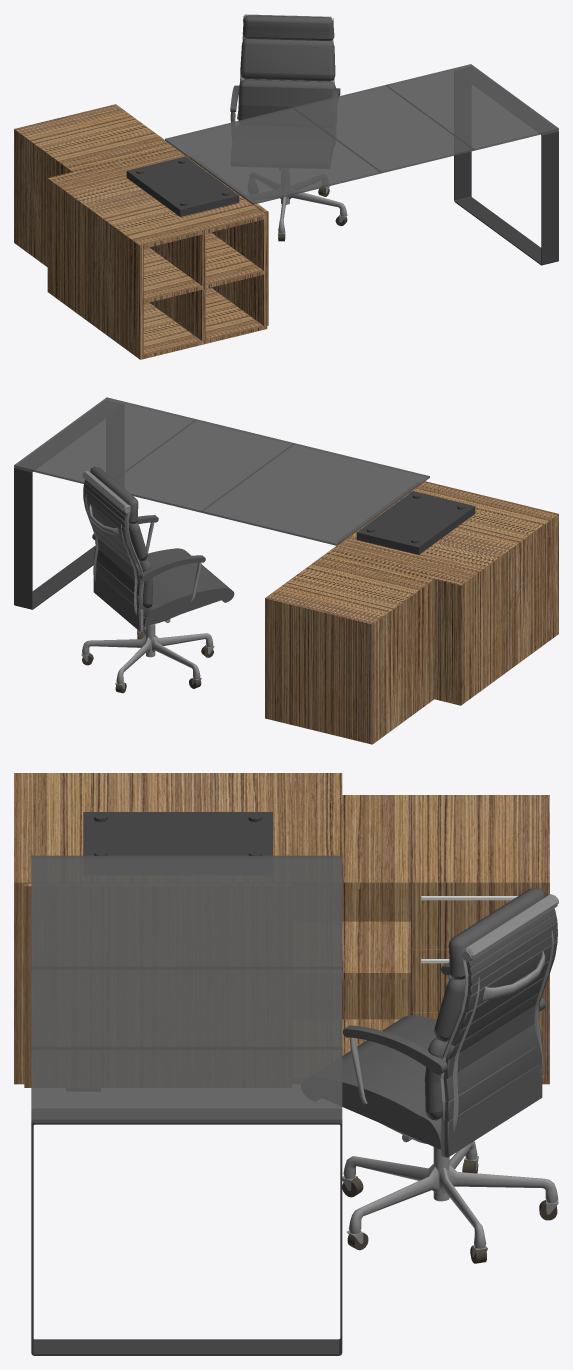
Rendered from desk-180-drawers-right.glb.
3 renders of one model, top to bottom at view 1: azimuth 30°, elevation 25°; view 2: azimuth 150°, elevation 25°; view 3: azimuth 270°, elevation 25°, orthographic. The views are drawn at different scales.
Parts seen in each view (by area): view 1: Geom3D (×3), Geom3D_ (×2); view 2: Geom3D (×3), Geom3D_ (×2); view 3: Geom3D (×4), Geom3D_ (×2).
Boxes of the visible parts, box(x1,y1,x2,y2) form: Geom3D (×3): box(14, 64, 558, 359); Geom3D_ (×2): box(230, 14, 347, 237); Geom3D (×3): box(14, 397, 558, 744); Geom3D_ (×2): box(81, 466, 234, 689); Geom3D (×4): box(14, 773, 557, 1355); Geom3D_ (×2): box(342, 887, 558, 1257).
Size of the model in its own units: 2.49 by 1.03 by 1.57.
Materials: 8 (1 with a texture image).
